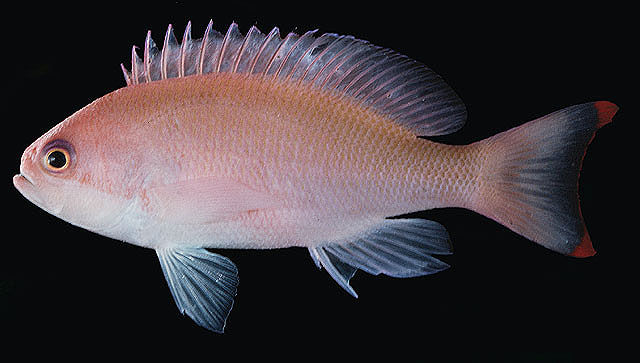fish: (12, 18, 620, 334)
